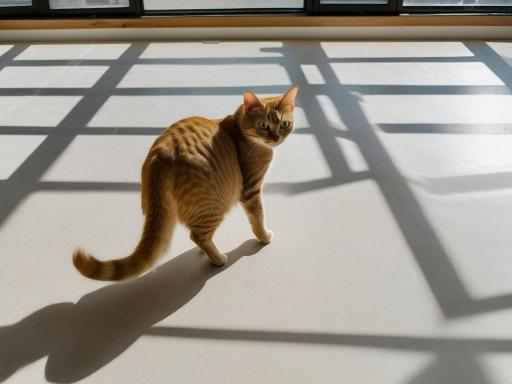cat_standing: (74, 86, 298, 280)
